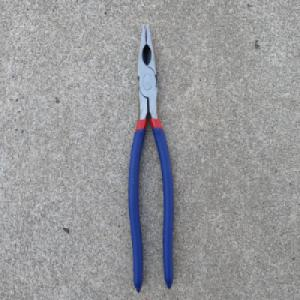Pliers: (127, 21, 175, 295)
